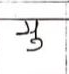u_matra: (27, 38, 44, 53)
